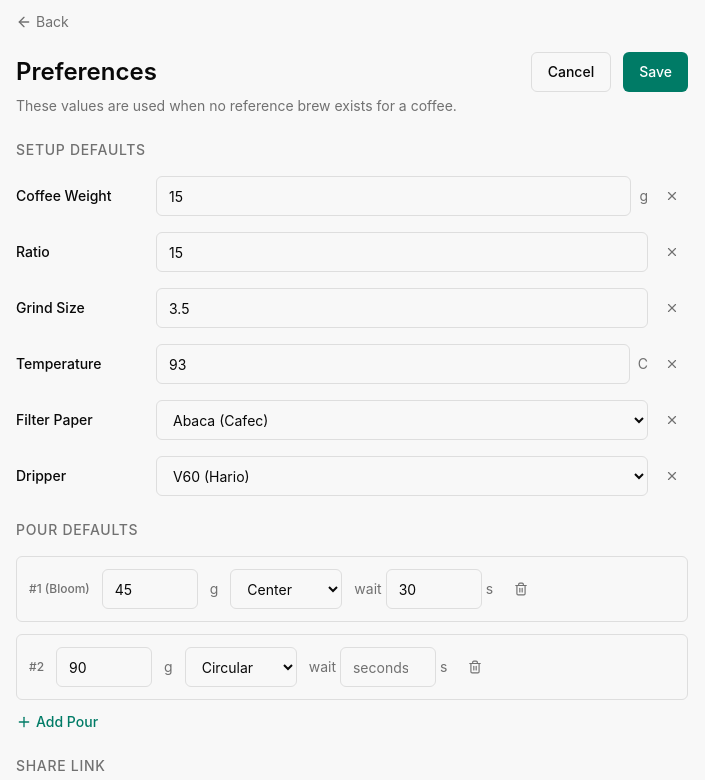
Test: PreferencesPage › clears dripper default
This screenshot has width=705, height=780.
Expected: the dropdown labelled "Dripper" shows "V60 (Hario)", x1=156 y1=456 x2=648 y2=496
Step 1. Click the button named "Clear dripper" → (672, 476), box x1=656 y1=460 x2=688 y2=492
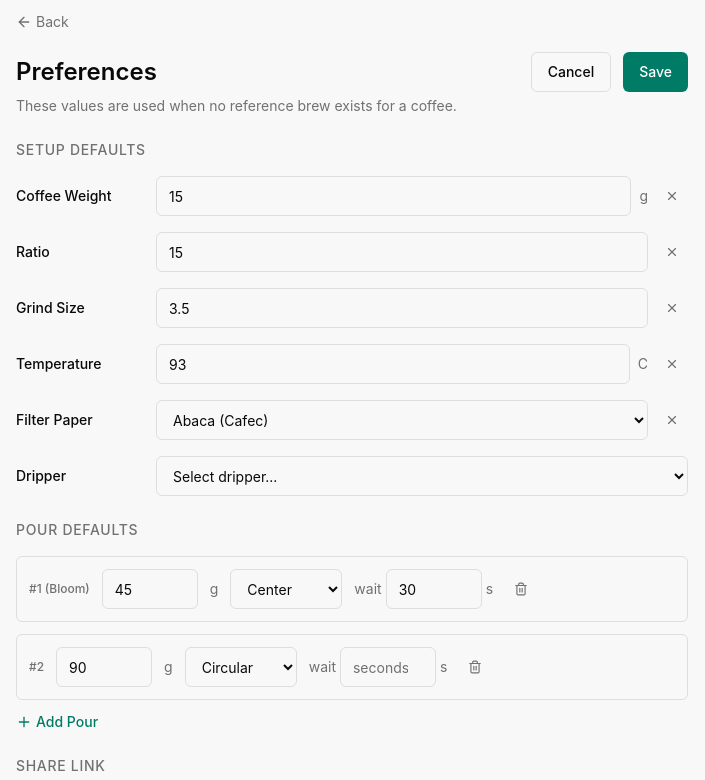
Now the dropdown labelled "Dripper" shows "Select dripper...", box x1=156 y1=456 x2=688 y2=496
